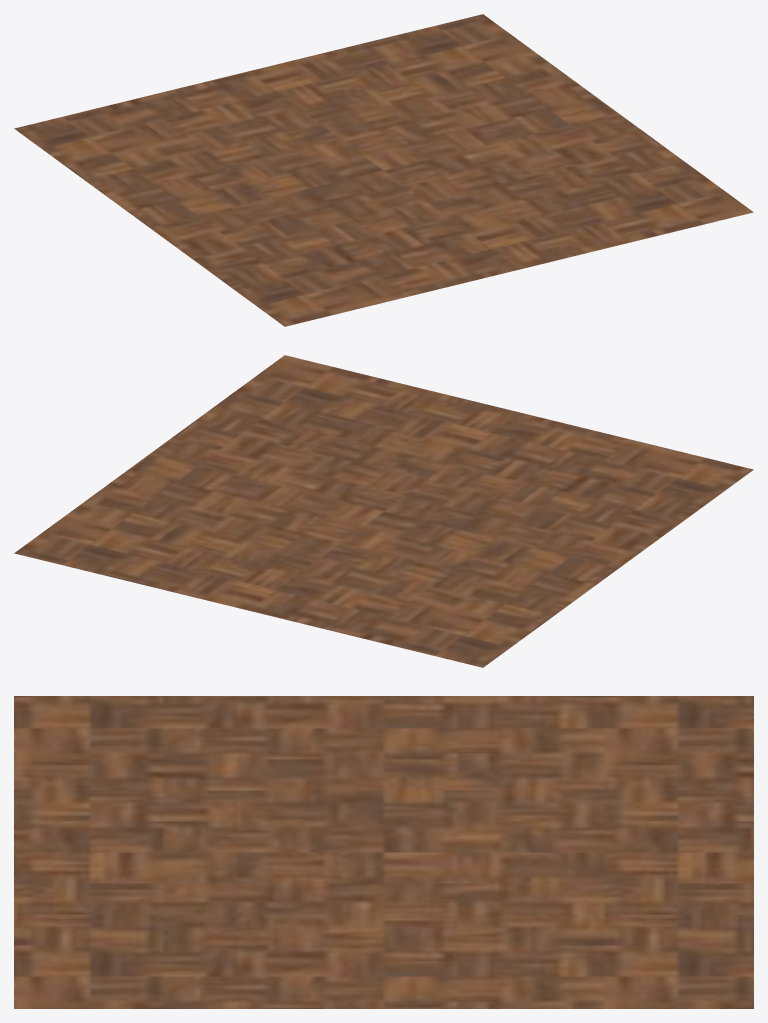
File: floor.lod2.glb
3 views of the same model, one above another, from view 1: azimuth 30°, elevation 25°; view 2: azimuth 150°, elevation 25°; view 3: azimuth 270°, elevation 25° (orthographic). The views are drawn at different scales.
Parts seen in each view (by area): view 1: Floor; view 2: Floor; view 3: Floor.
Boxes of the visible parts, x1,y1,x2,y2 form: Floor: [14, 14, 753, 326]; Floor: [14, 355, 753, 667]; Floor: [14, 696, 753, 1008].
Size of the model in its own units: 2 by 0 by 2.
Materials: 1 (1 with a texture image).
